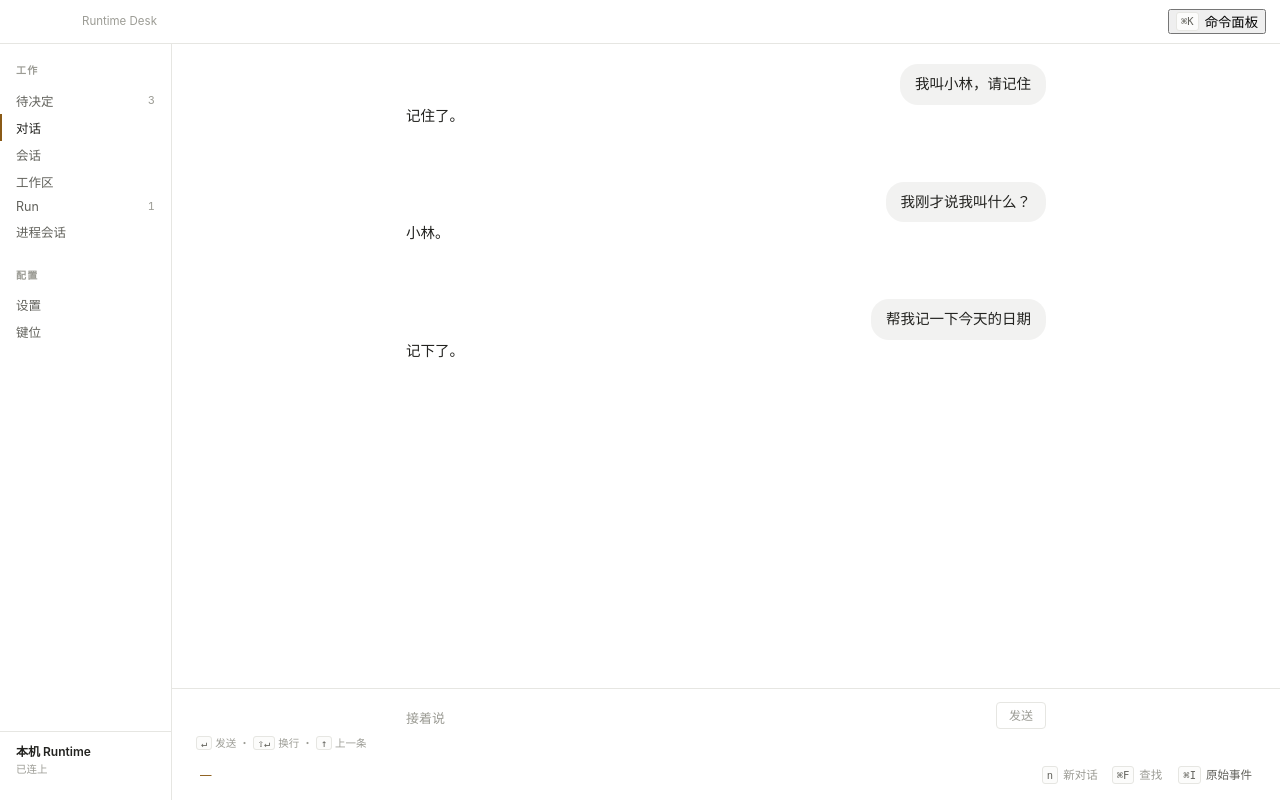
Test case: the key that opens it › is reachable from the palette as well
Click the button "对话": (86, 127) [0, 114, 171, 140]
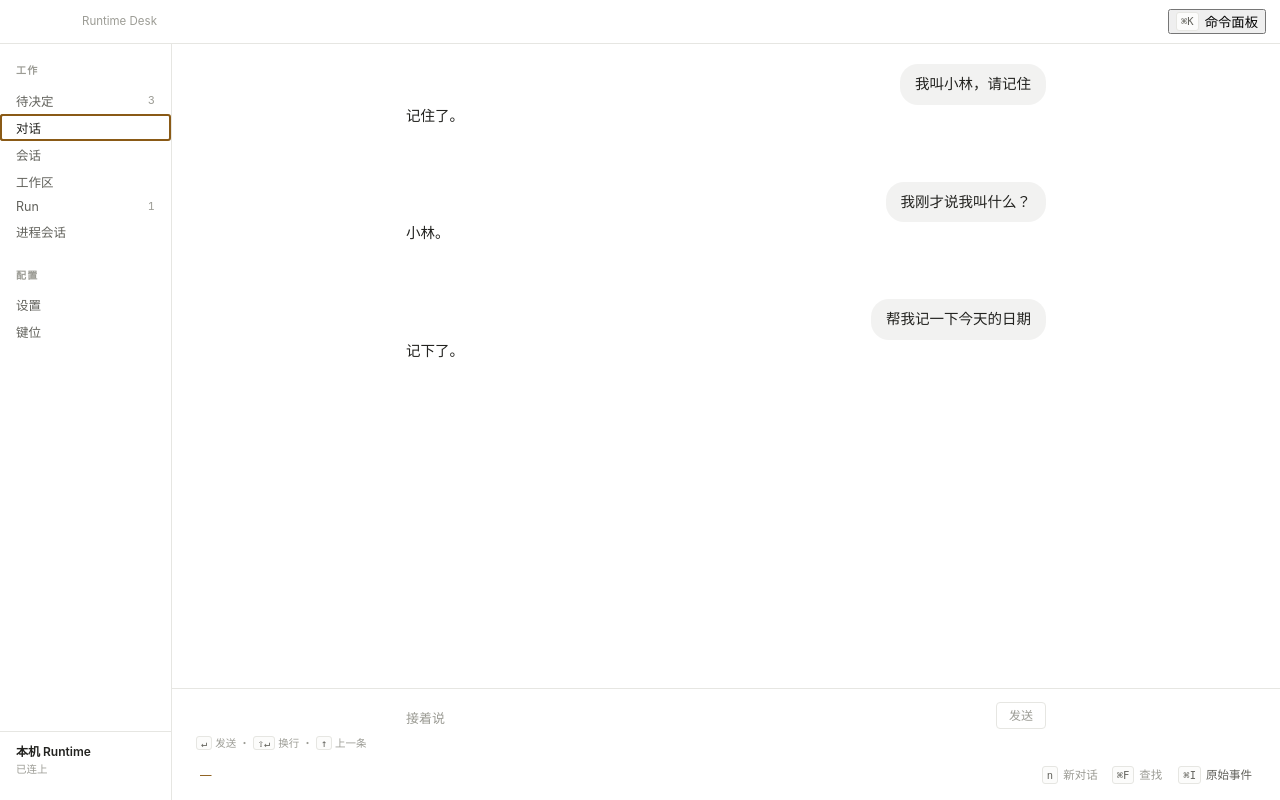
Type keys "{Meta>}k{/Meta}"
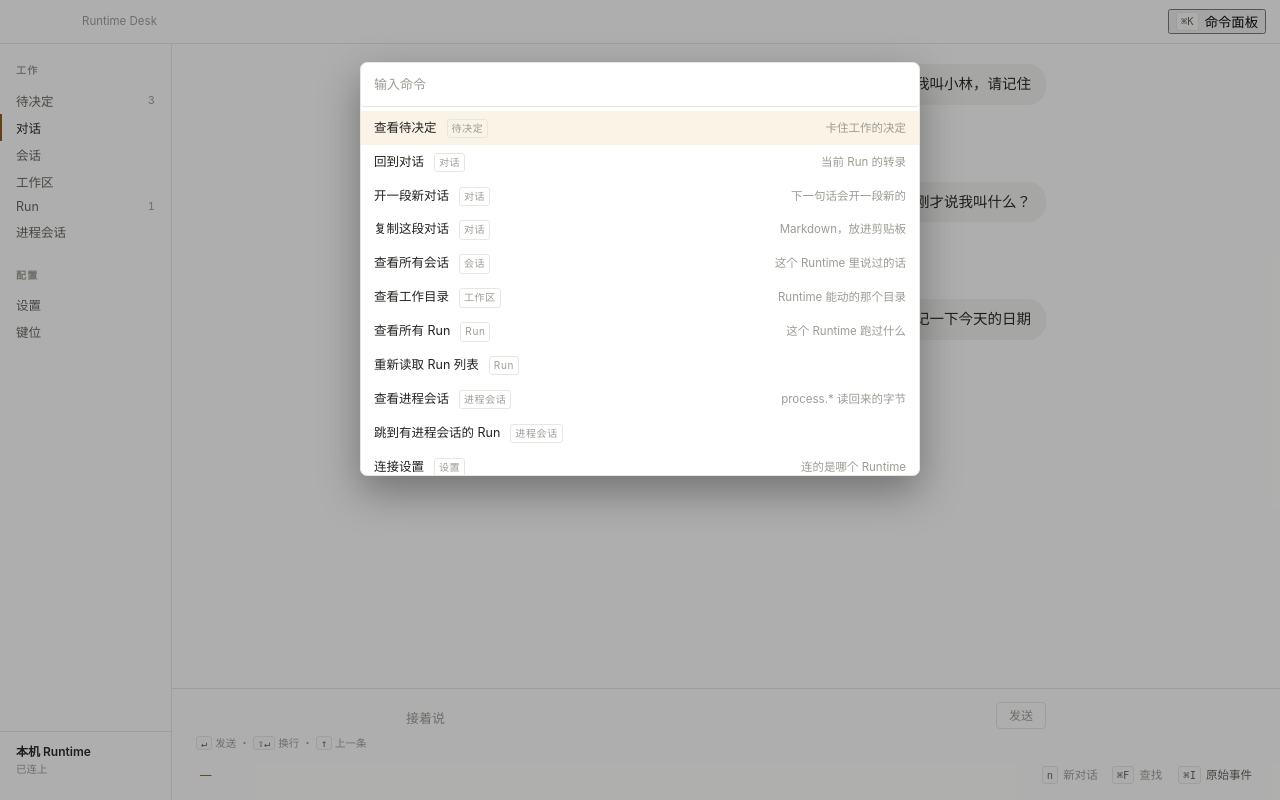
In the field with placeholder "输入命令": (640, 85) [361, 63, 919, 107], type "键位"
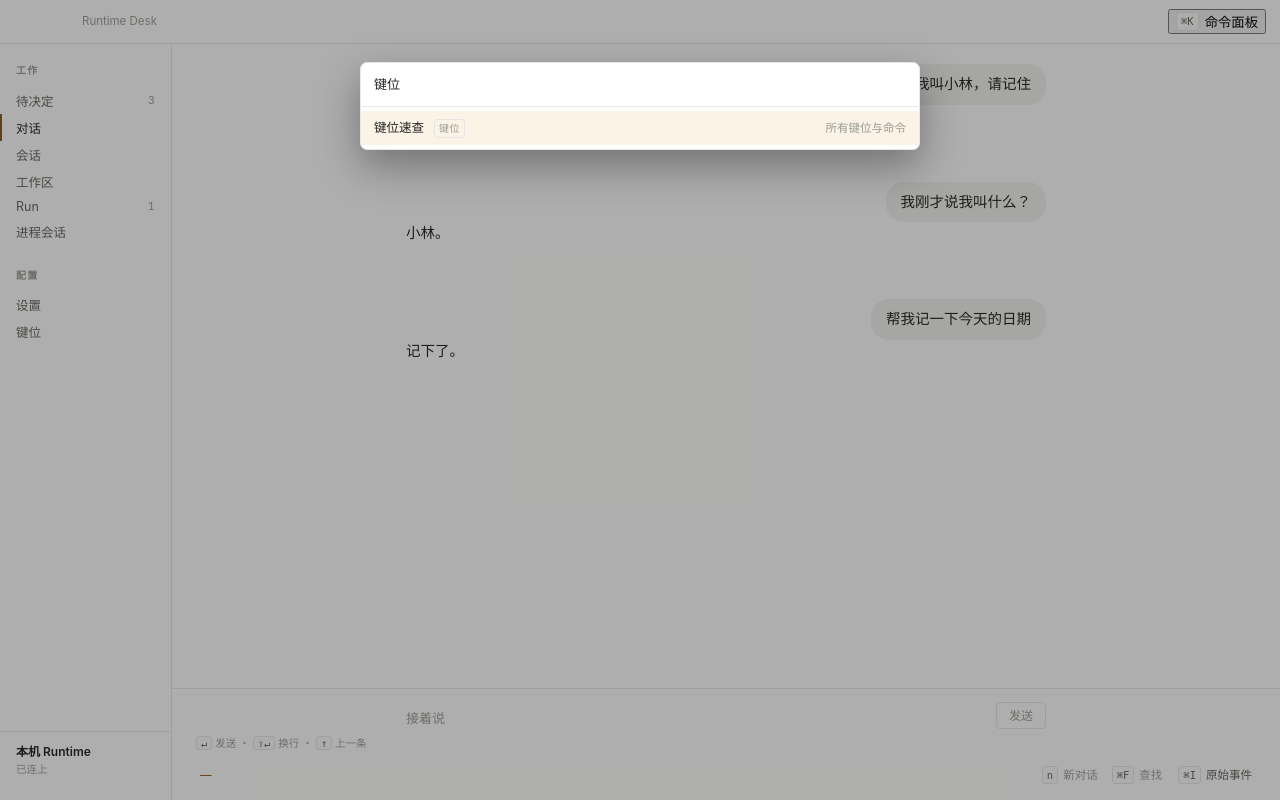
Press Enter
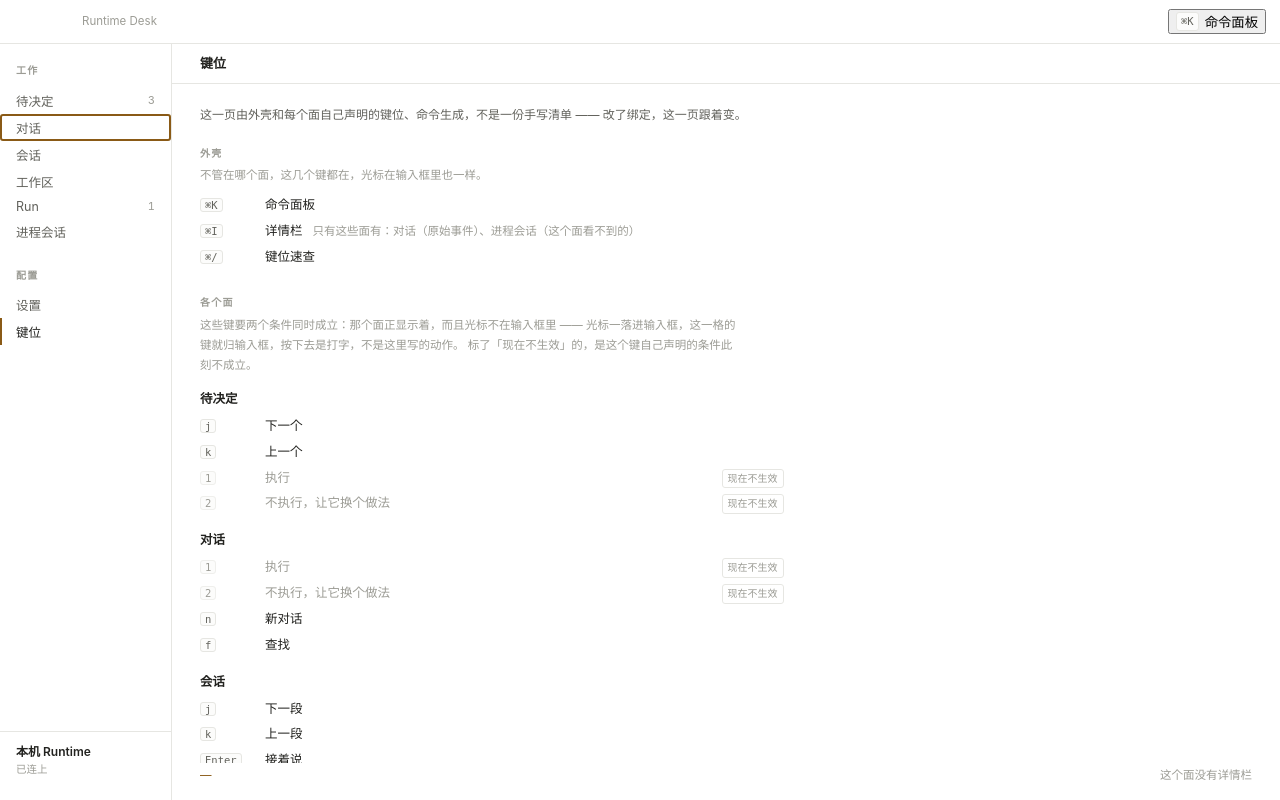
expect the element with class "keyref" is shown: met, box [200, 107, 784, 767]
